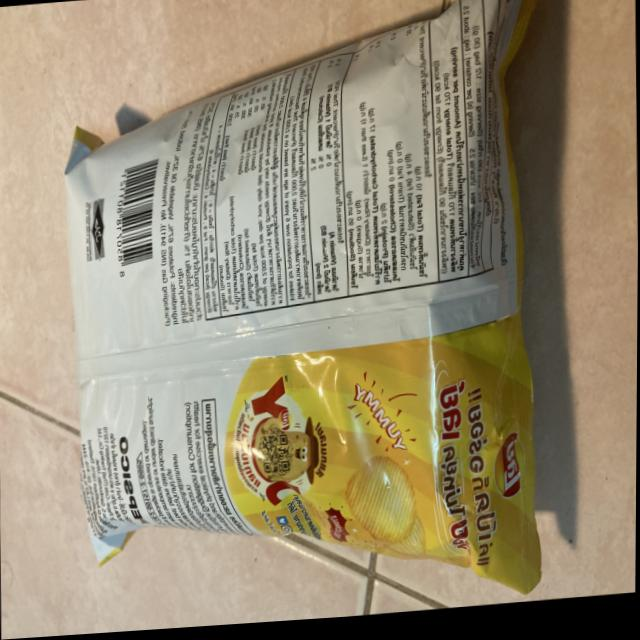LayYellow: (53, 21, 526, 596)
